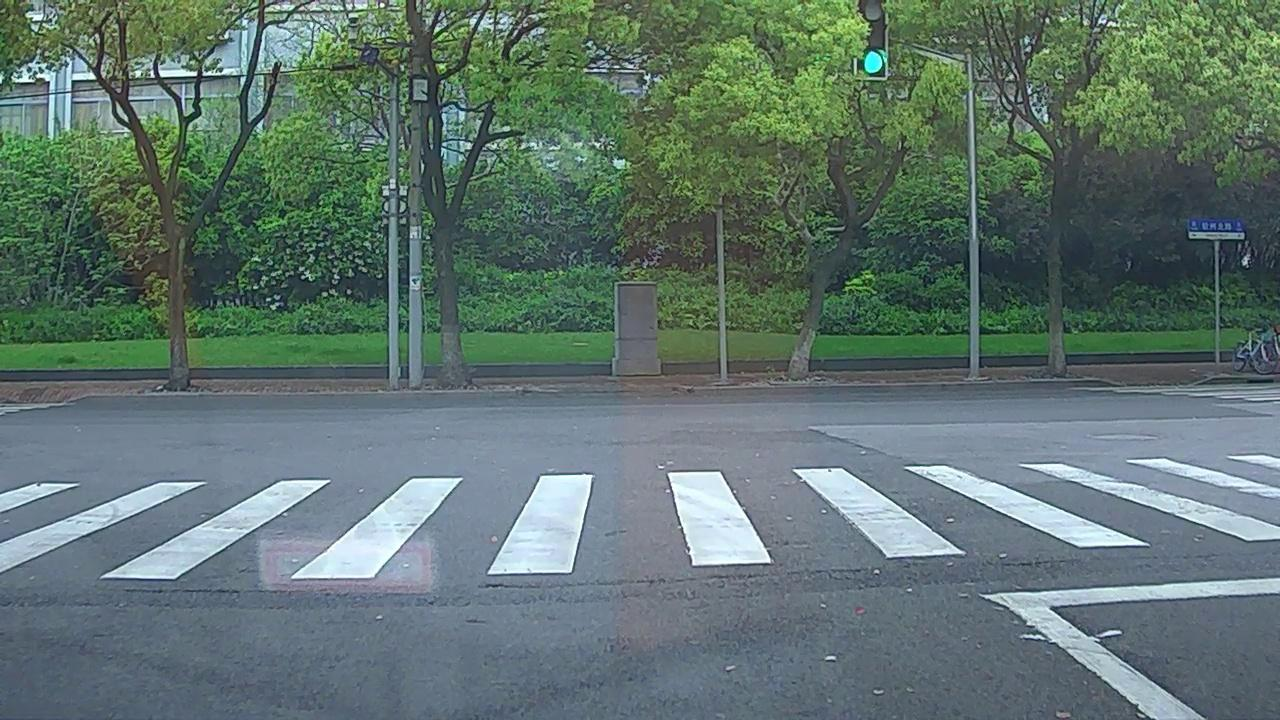traffic_light: (855, 1, 888, 79)
